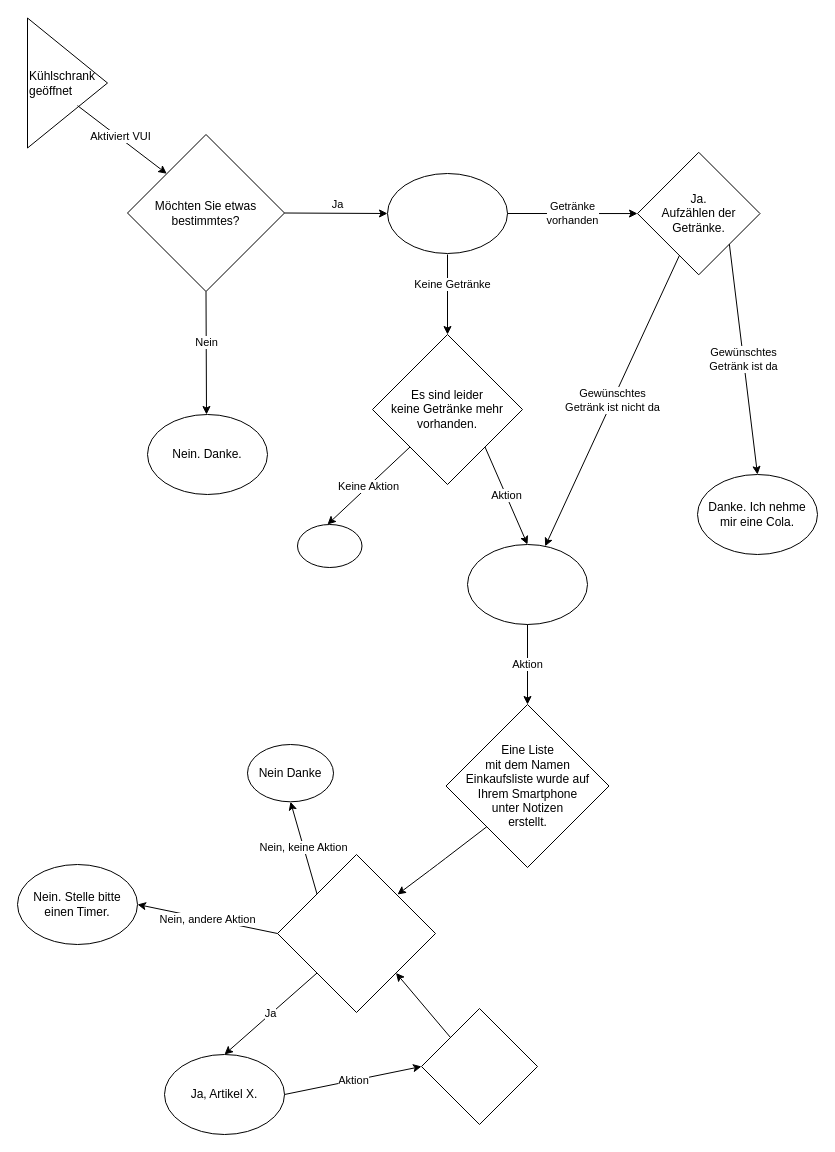
Some shapes in this 835 by 1152 pixel diagram are drawn without their labels. Here are the shapes that lost their labels. From the top down, the centre of each, then its label:
At point (447, 213): "Ja. Was für Getränke sind noch da?".
At point (329, 546): "Okay".
At point (527, 584): "Erstelle eine Einkaufsliste".
At point (356, 933): "Möchten Sie der neuen Liste ein Artikel hinzufügen?".
At point (479, 1066): "Artikel X wurde der Liste hinzugefügt.".
